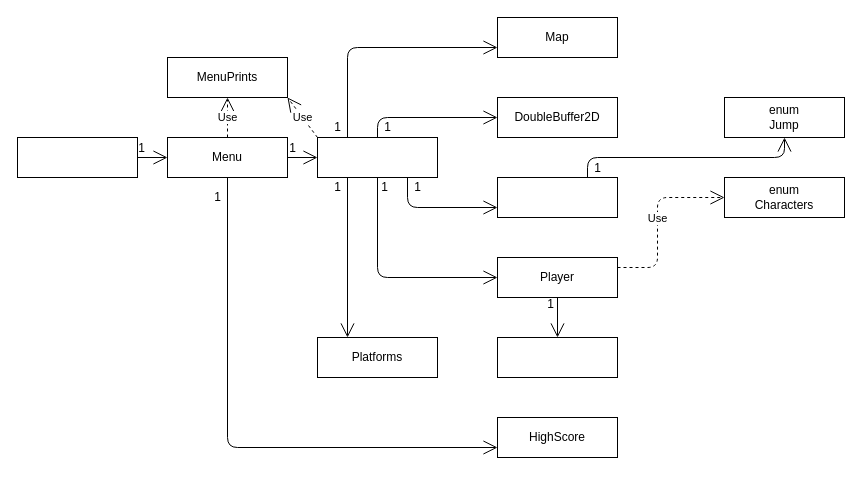
Image size: 862x479. Some labels were removed from this diagram. Each missing label, with the centre of its shape:
GameLoop: (377,157)
InputSystem: (557,197)
Positions: (557,357)
Program: (77,157)
